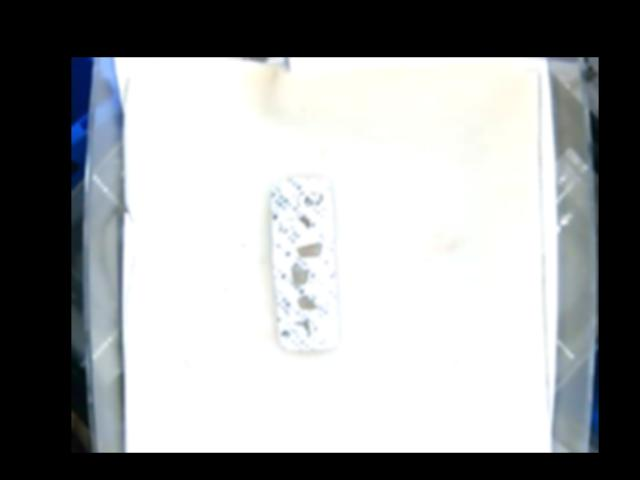Medicine: (275, 175, 335, 351)
